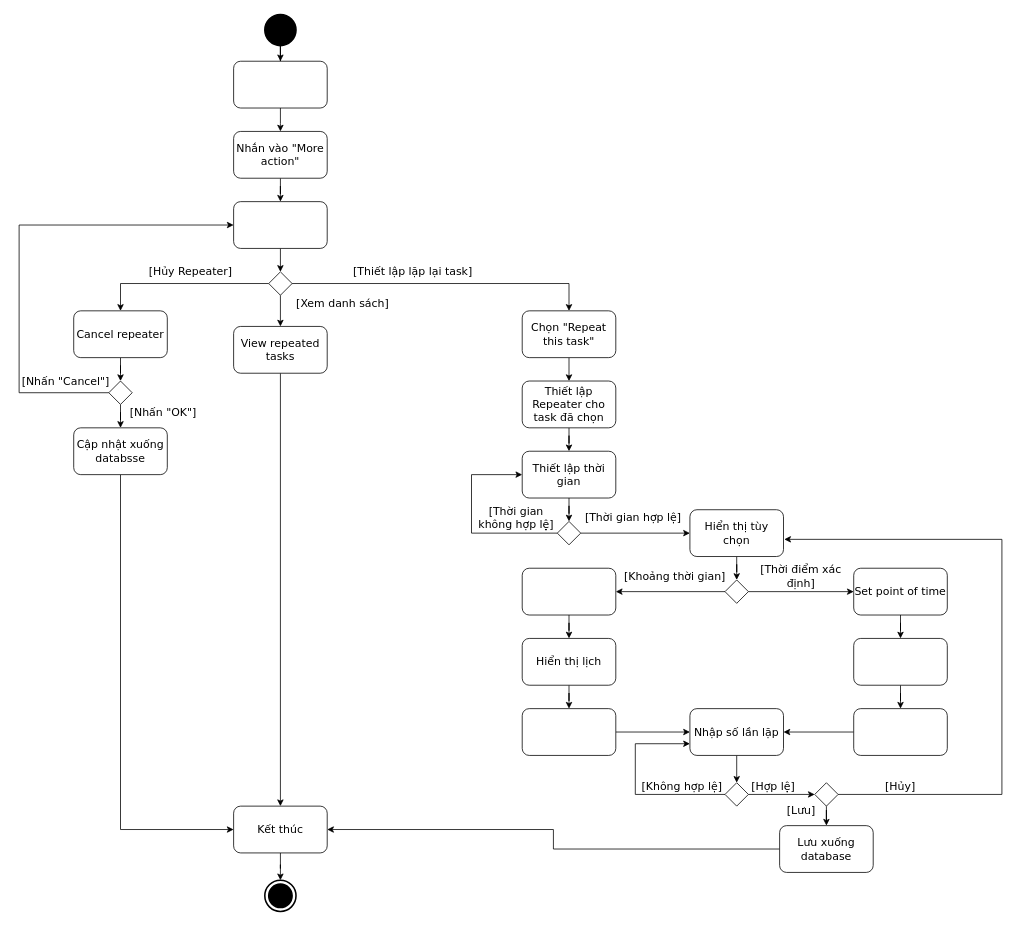
Image size: 1022x925. Some labels were removed from this diagram. Each missing label, with the centre of its shape:
Chọn chu kì: (x=900, y=731)
Chọn task cần thao tác: (x=280, y=84)
Hiển thị danh mục các tùy chọn: (x=280, y=224)
Hiển thị danh sách các chu kì: (x=900, y=661)
Nhấp vào lịch chọn thời điểm: (x=568, y=731)
Set period of time: (x=568, y=591)
